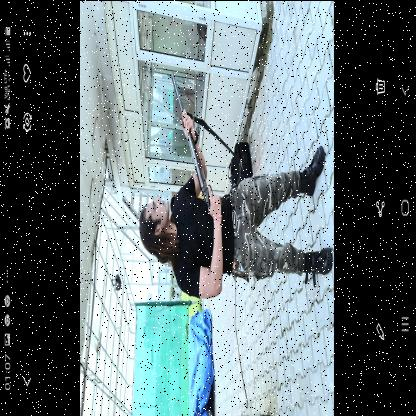rifle: (170, 68, 224, 210)
